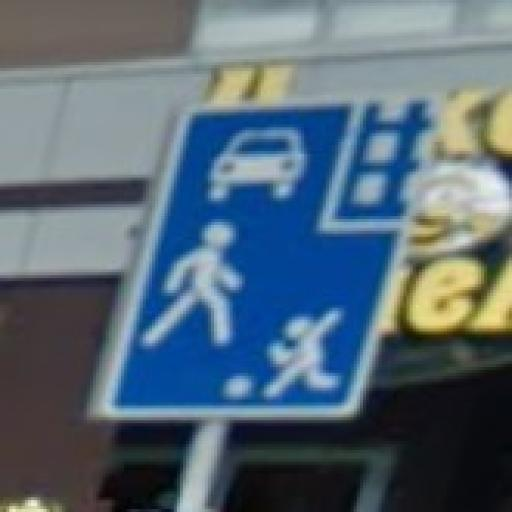traffic_sign: (100, 93, 448, 421)
